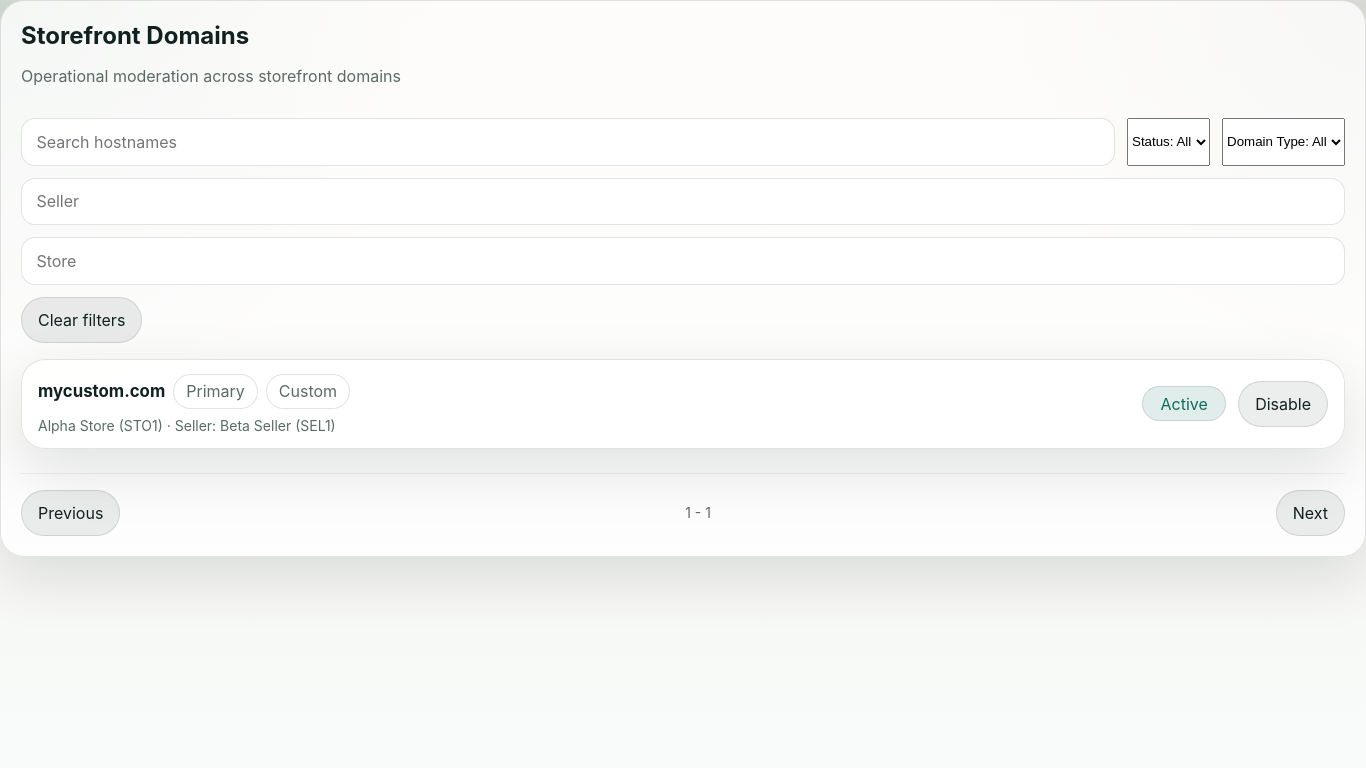
Test: DomainModerationPanel › handles Disable domain action with modal confirmation and authoritative reload
The image size is (1366, 768).
Expected: the text "mycustom.com" is shown, left=38, top=381, right=165, bottom=401
Click Disable
Click the button with test id "disable-btn-dom-custom-1": point(1283, 404) left=1238, top=381, right=1328, bottom=427
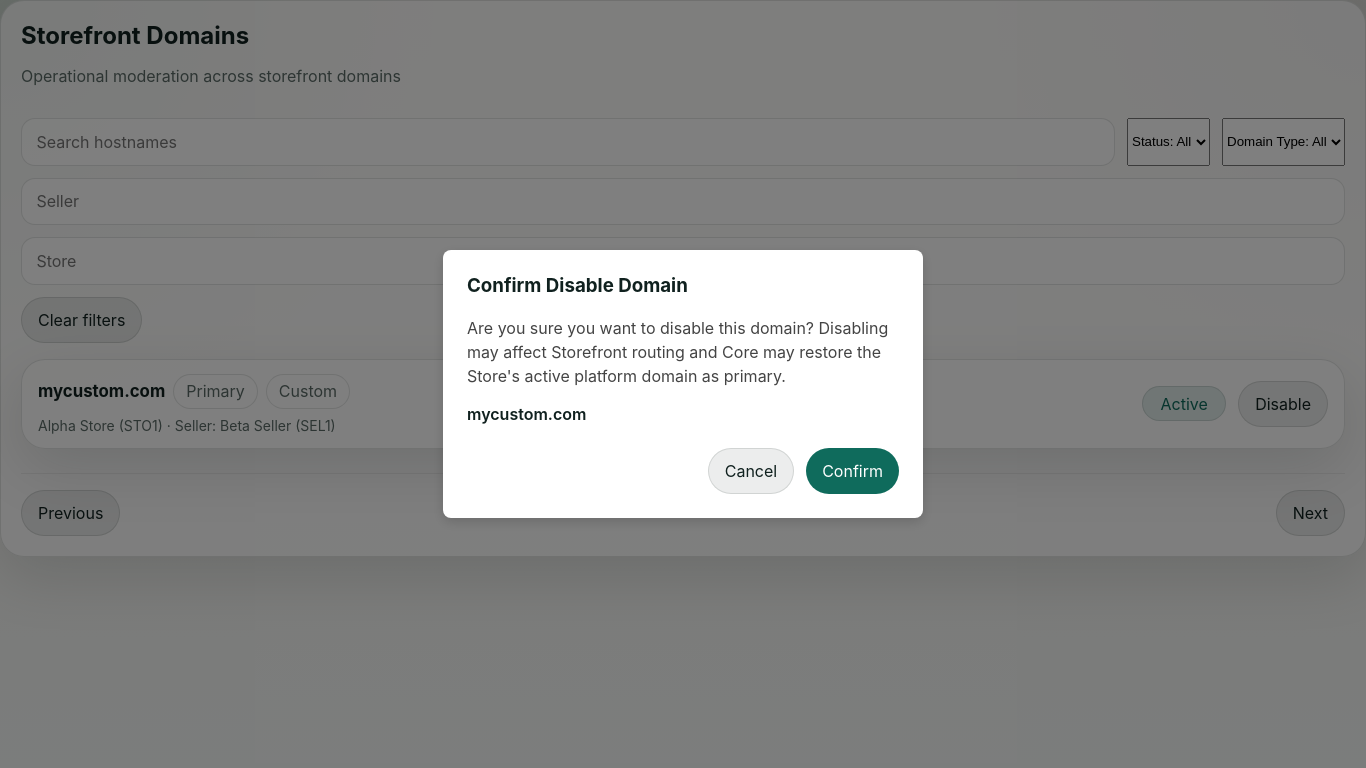
Expected: the element with test id "confirm-dialog" is shown, left=443, top=250, right=923, bottom=518
Expected: the heading "Confirm Disable Domain" is shown, left=467, top=274, right=688, bottom=297
Submit confirmation
Click the button with test id "confirm-submit": point(853, 471) left=806, top=448, right=899, bottom=494
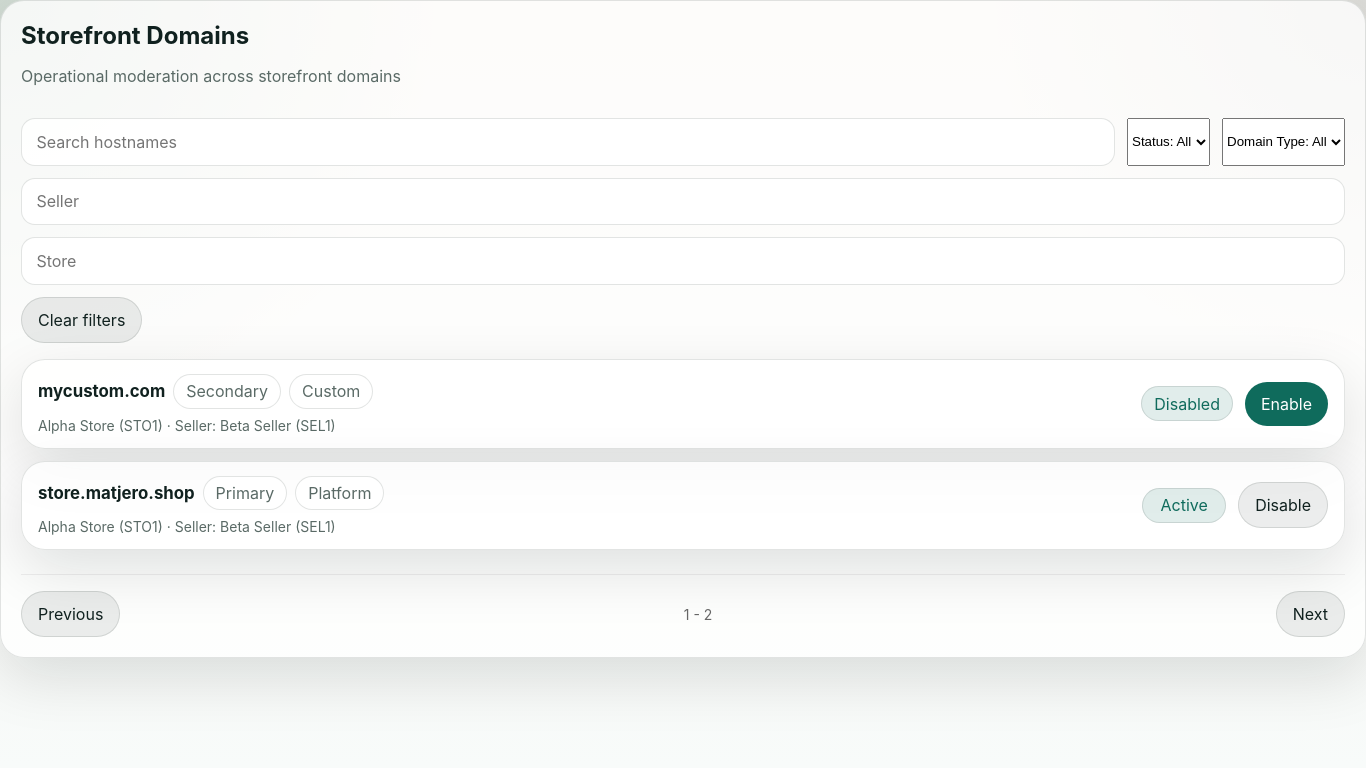
Expected: the text "store.matjero.shop" is shown, left=38, top=483, right=195, bottom=503
